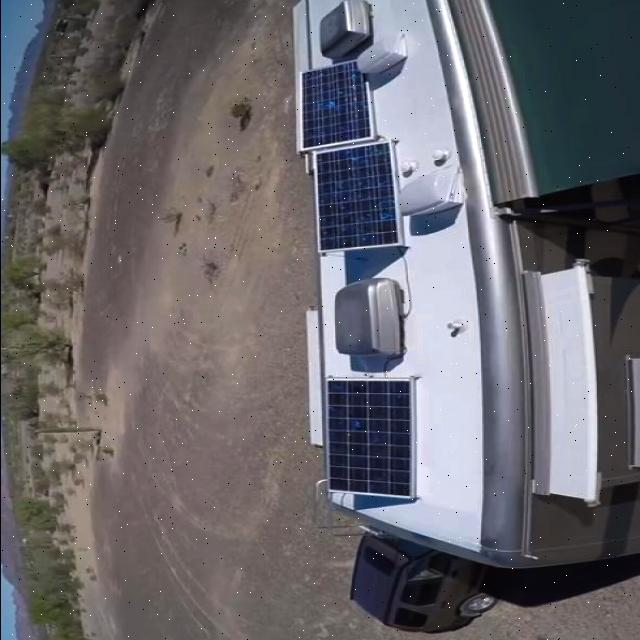Normal Solar Panel: (323, 378, 415, 498), (314, 141, 398, 251), (298, 58, 372, 150)
